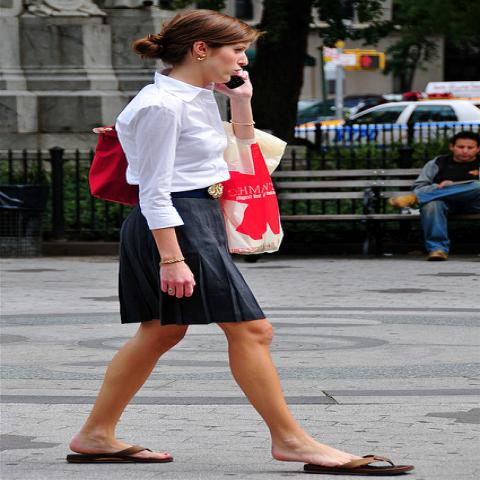car: (294, 92, 479, 146), (296, 102, 358, 125)
